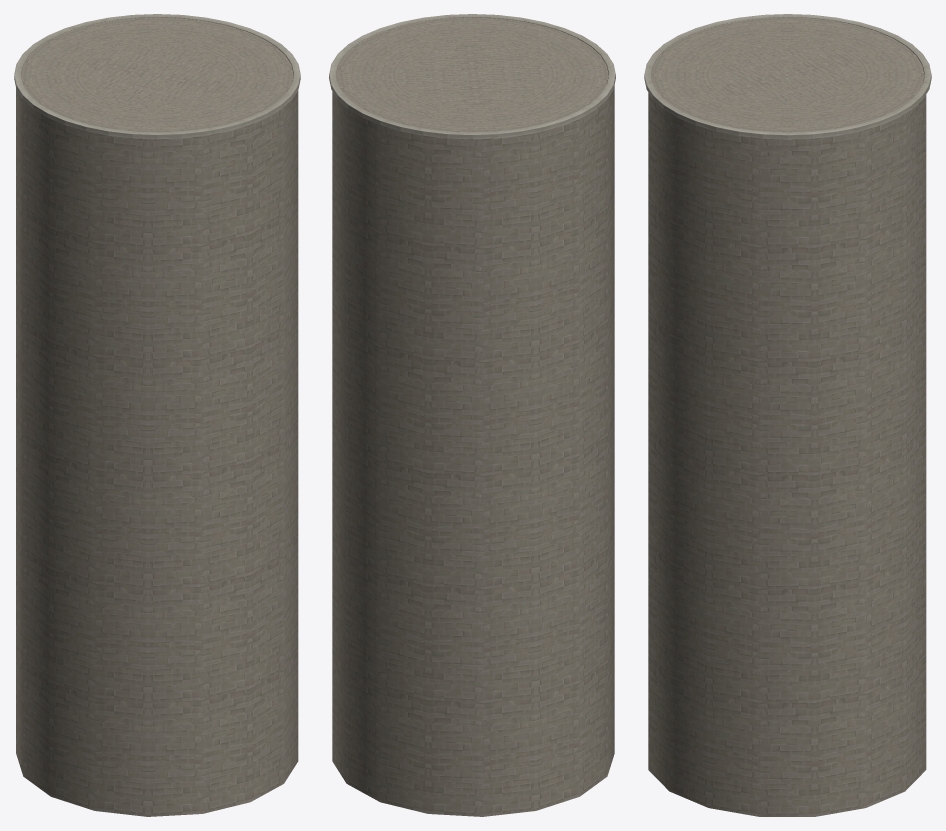
Rendered from mod_zlc_jianzhu070_xy.FBX.
The picture shows the model from 3 angles, left to right: view 1: azimuth 30°, elevation 25°; view 2: azimuth 150°, elevation 25°; view 3: azimuth 270°, elevation 25°; orthographic projection.
Parts seen in each view (by area): view 1: mod_zlc_jianzhu070_xy; view 2: mod_zlc_jianzhu070_xy; view 3: mod_zlc_jianzhu070_xy.
Part boxes in pixels (x1,y1,x2,y2): mod_zlc_jianzhu070_xy: (14, 14, 300, 816); mod_zlc_jianzhu070_xy: (329, 14, 615, 816); mod_zlc_jianzhu070_xy: (644, 14, 931, 816).
Size of the model in its own units: 3460 by 9091 by 3460.
